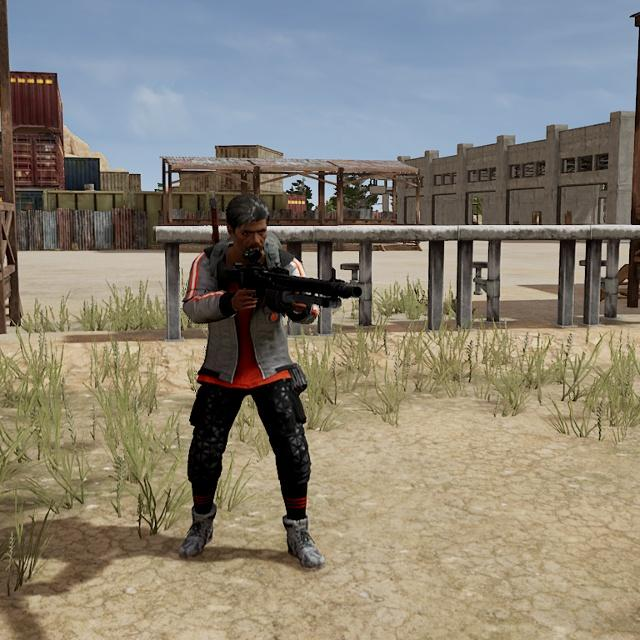head: (223, 190, 272, 257)
people: (182, 188, 325, 573)
